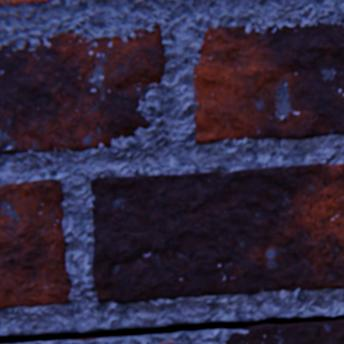brick: (92, 164, 343, 303), (0, 26, 167, 154), (193, 23, 343, 144), (0, 180, 72, 308), (226, 320, 343, 343), (0, 0, 53, 6), (161, 339, 174, 343)
crack: (0, 315, 343, 343)
